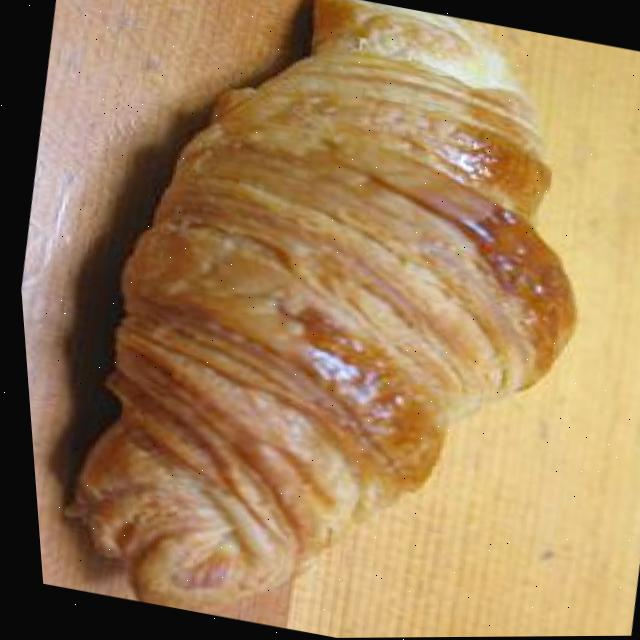面包点心: (4, 0, 640, 640)
